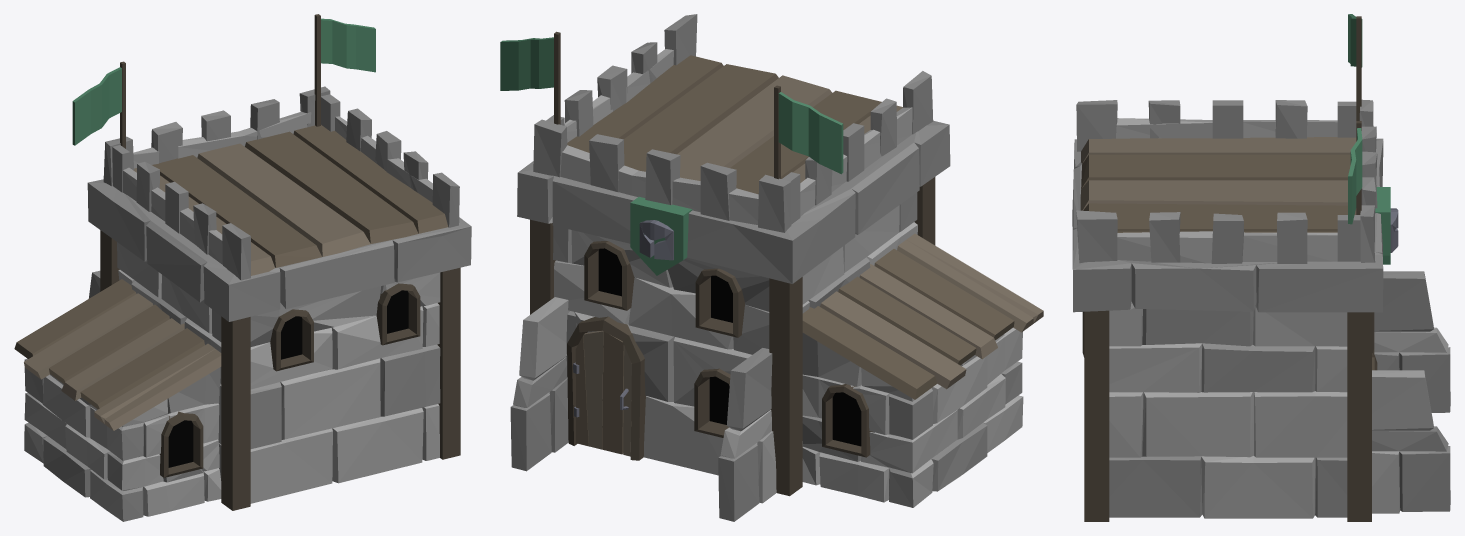
The model's file is _BARRACKS.fbx.
3 views of the same model, side by side, from view 1: azimuth 30°, elevation 25°; view 2: azimuth 150°, elevation 25°; view 3: azimuth 270°, elevation 25° (orthographic). The views are drawn at different scales.
Visible parts, largest first — view 1: BARRACKS; view 2: BARRACKS; view 3: BARRACKS.
Part boxes in pixels (x1,y1,x2,y2): BARRACKS: (14, 14, 471, 521); BARRACKS: (500, 14, 1043, 521); BARRACKS: (1072, 14, 1450, 521).
Size of the model in its own units: 730 by 658 by 579.
